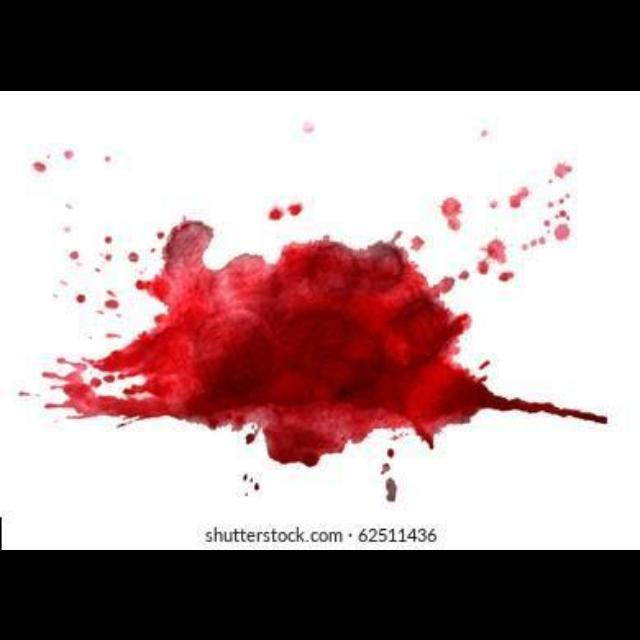blood: (49, 220, 609, 465), (456, 162, 571, 280), (53, 225, 158, 350), (31, 147, 115, 176), (15, 376, 69, 421), (441, 195, 471, 234), (241, 472, 263, 498), (387, 476, 399, 503), (269, 205, 286, 219), (287, 202, 301, 215), (302, 120, 315, 132), (382, 463, 390, 475), (387, 448, 394, 458)
